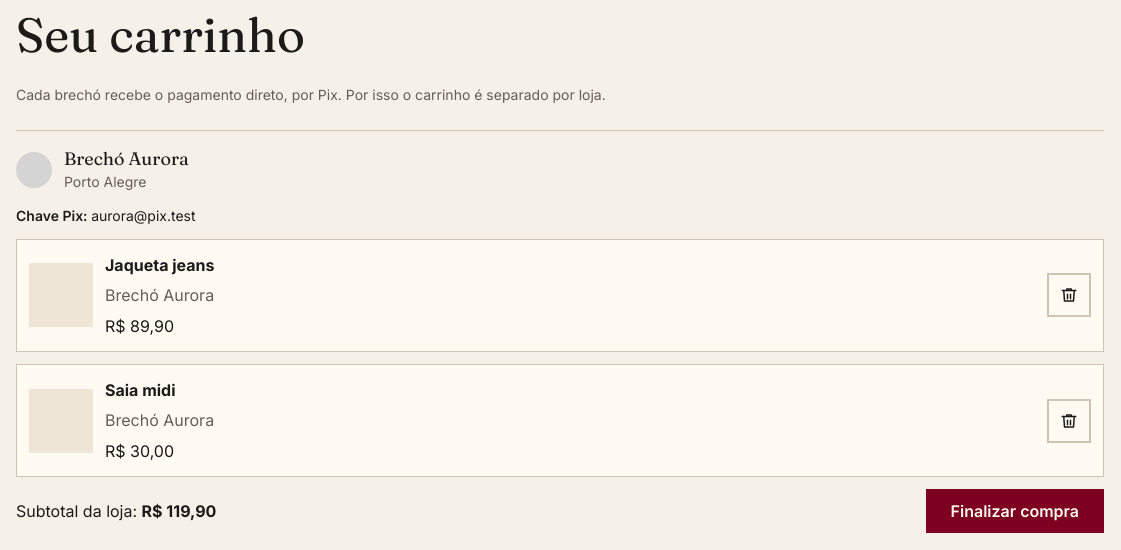
Scenario: #359 — dados Pix por loja no carrinho › preserva os metadados do grupo após remover uma peça
The image size is (1121, 550).
What coordinates should you click on to do the following:
click the button named "Remover Saia midi do carrinho"
I would click on:
 (1069, 420)
Its box is [1047, 398, 1091, 442].
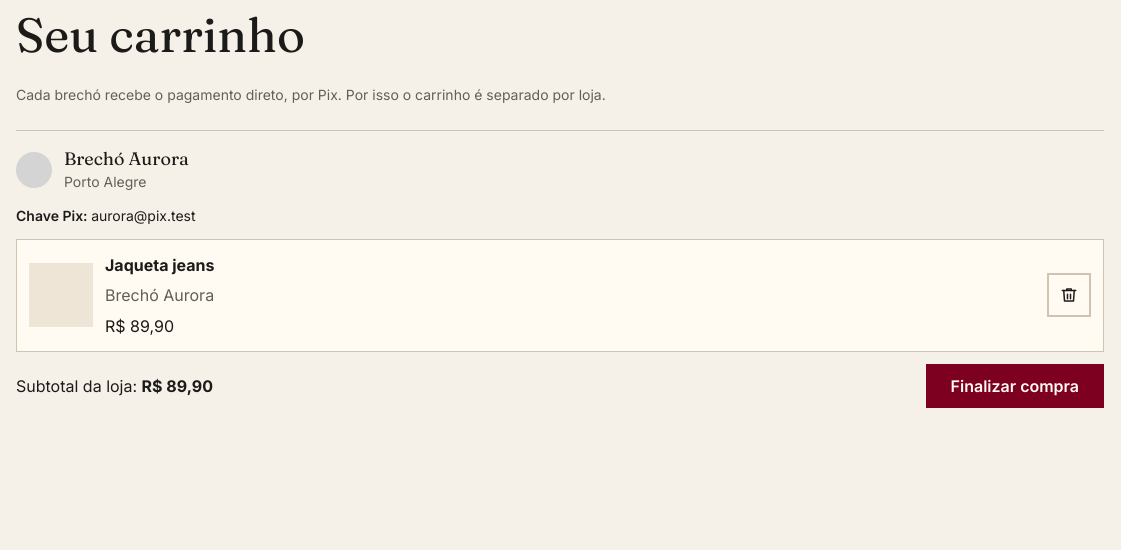
Expected: the text "aurora@pix.test" is shown, [91, 207, 196, 224]
Expected: the button "Saia midi" is gone
Expected: the text with test id "subtotal-11" reads "R$ 89,90", [142, 376, 213, 396]
